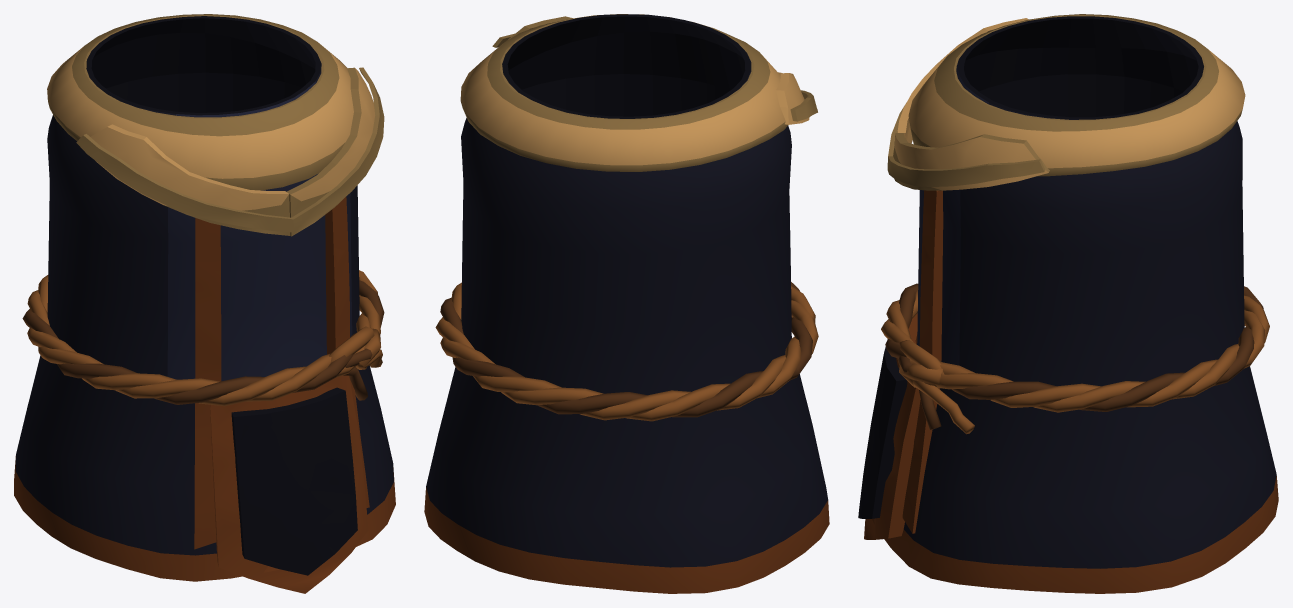
Rendered from MerchantRobeShell.fbx.
The picture shows the model from 3 angles, left to right: view 1: azimuth 30°, elevation 25°; view 2: azimuth 150°, elevation 25°; view 3: azimuth 270°, elevation 25°; orthographic projection. The views are drawn at different scales.
Visible parts, largest first — view 1: RobeShell; view 2: RobeShell; view 3: RobeShell.
Boxes of the visible parts, bbox=[...] form: RobeShell: bbox=[14, 14, 395, 593]; RobeShell: bbox=[424, 14, 829, 593]; RobeShell: bbox=[858, 14, 1278, 593].
Bounding box in the file's own units: 0.3325 × 0.4487 × 0.362.
1 material, 1 textured.
